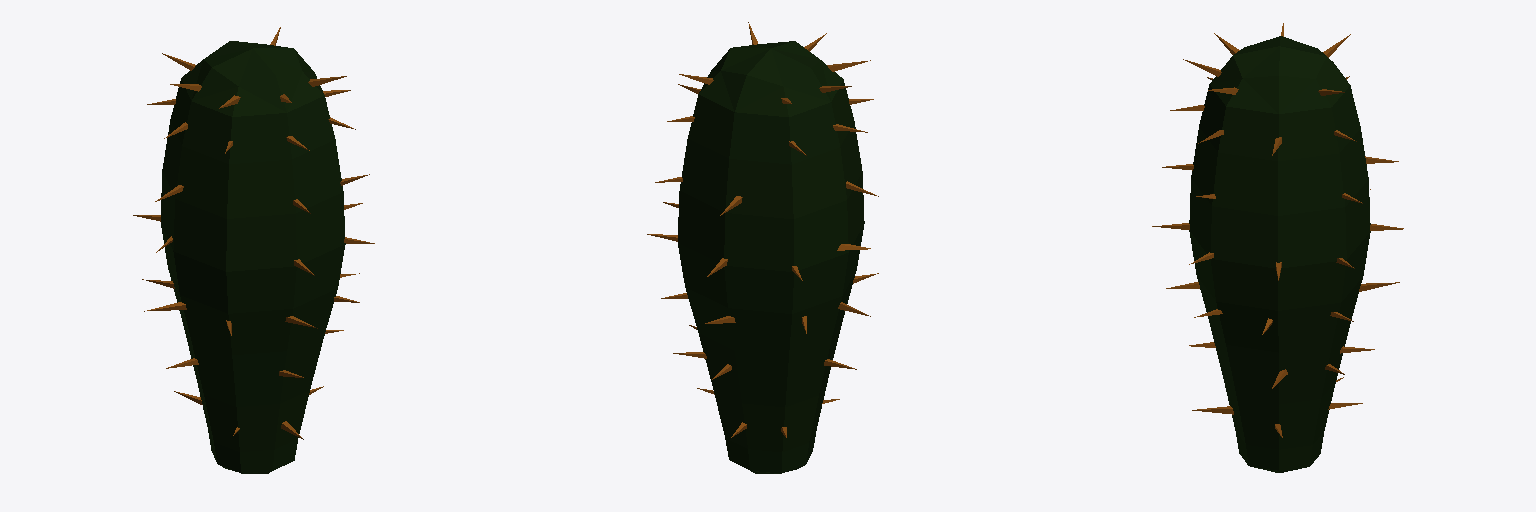
Rendered from Cactus_1.obj.
3 renders of one model, left to right at view 1: azimuth 30°, elevation 25°; view 2: azimuth 150°, elevation 25°; view 3: azimuth 270°, elevation 25°, orthographic.
Parts seen in each view (by area): view 1: Cactus_1; view 2: Cactus_1; view 3: Cactus_1.
Boxes of the visible parts, <box> form: Cactus_1: <box>133,27,374,473</box>; Cactus_1: <box>647,22,878,473</box>; Cactus_1: <box>1152,23,1403,472</box>.
Bounding box in the file's own units: 0.5497 × 1.01 × 0.5629.